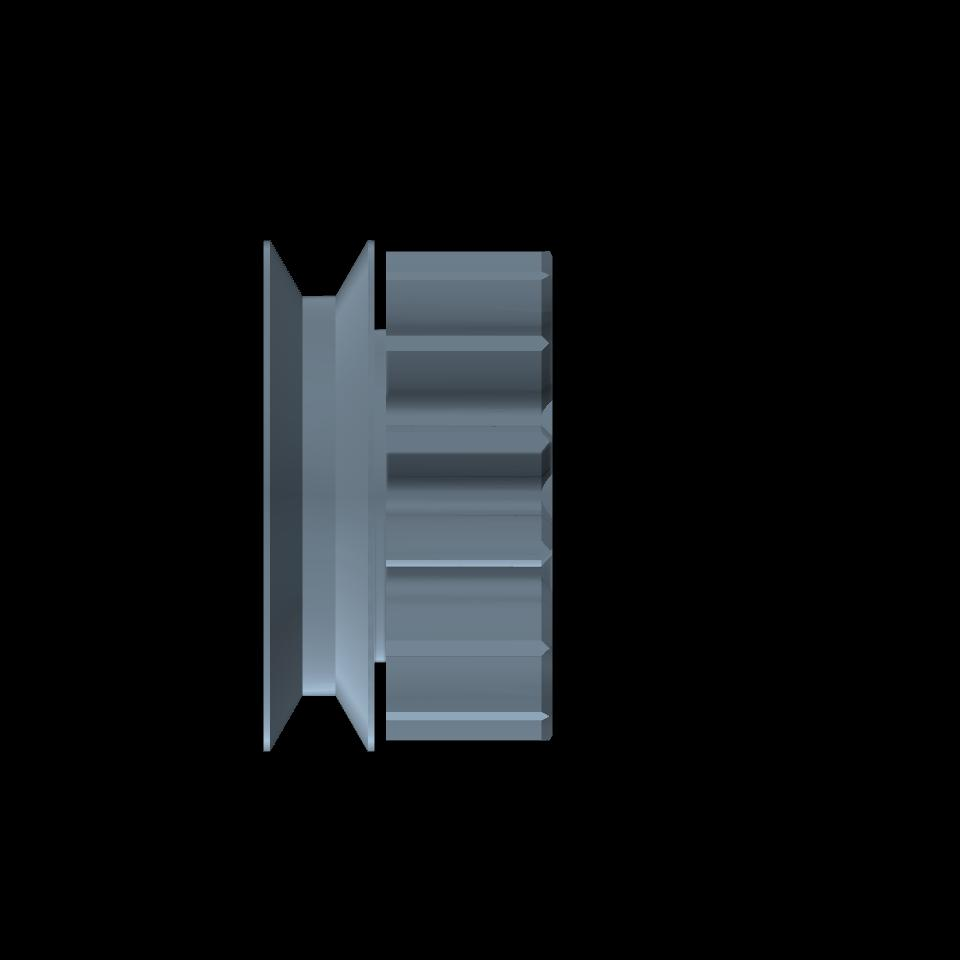Straight: (389, 252, 545, 740)
